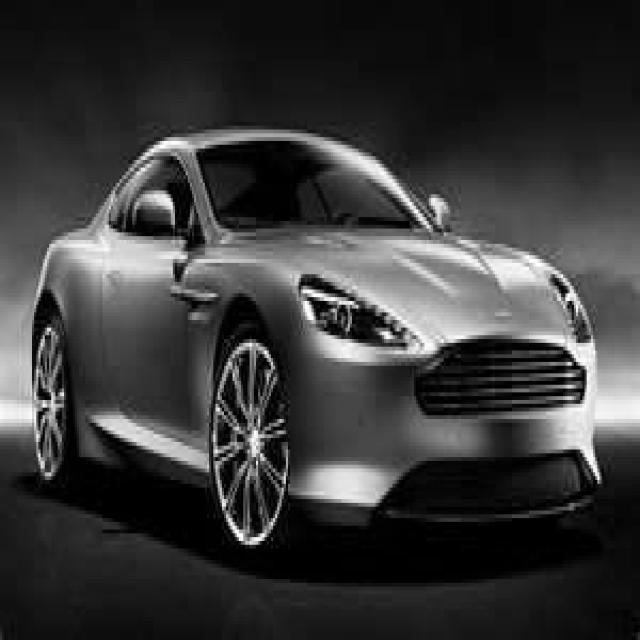car: (30, 122, 601, 552)
